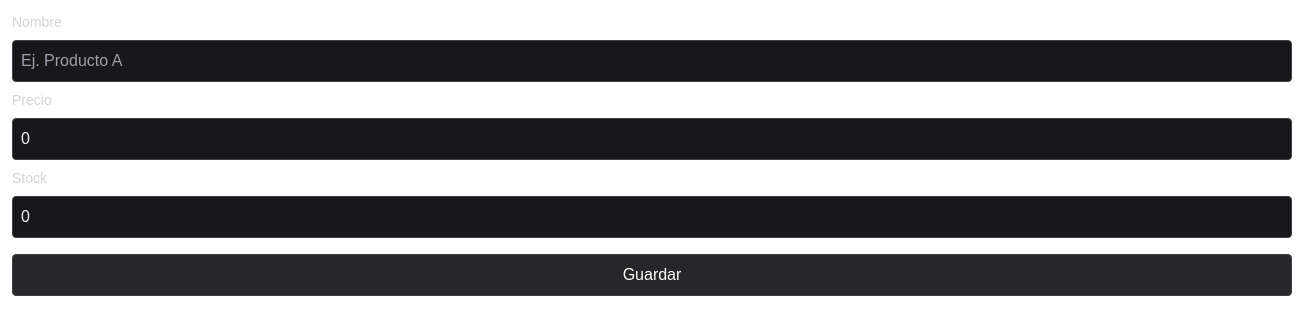
Test: ProductForm validation › resets the form after successful submit
Type "Producto Test" into the field labelled "Nombre". click: [652, 61]
box: 12,40 -> 1292,82
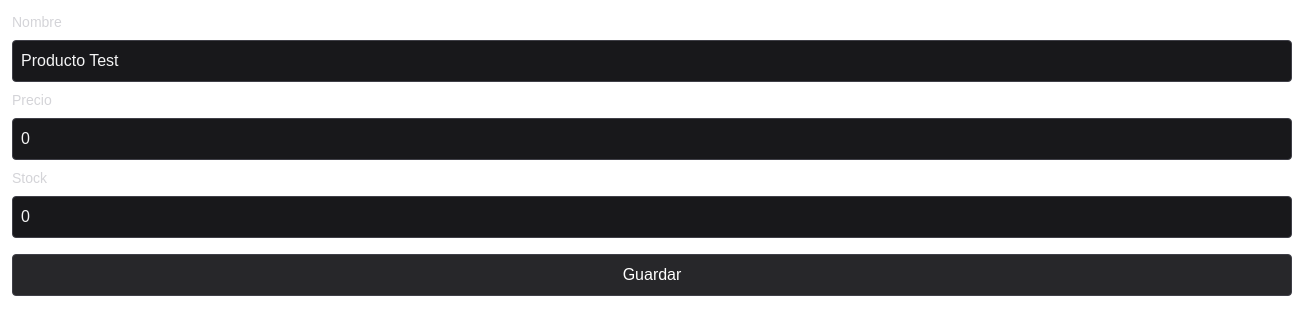
Replace the text in the number field labelled "Precio" with "10". click: [652, 139]
box: 12,118 -> 1292,160
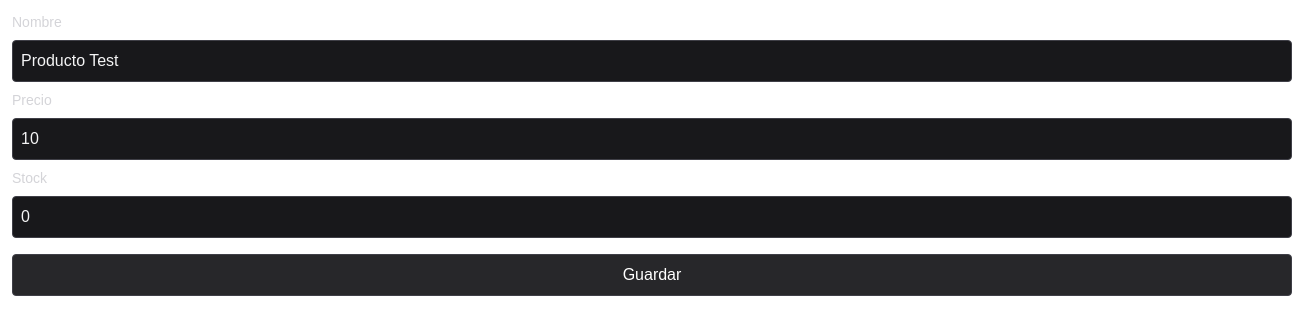
Replace the text in the number field labelled "Stock" with "3". click: [652, 217]
box: 12,196 -> 1292,238
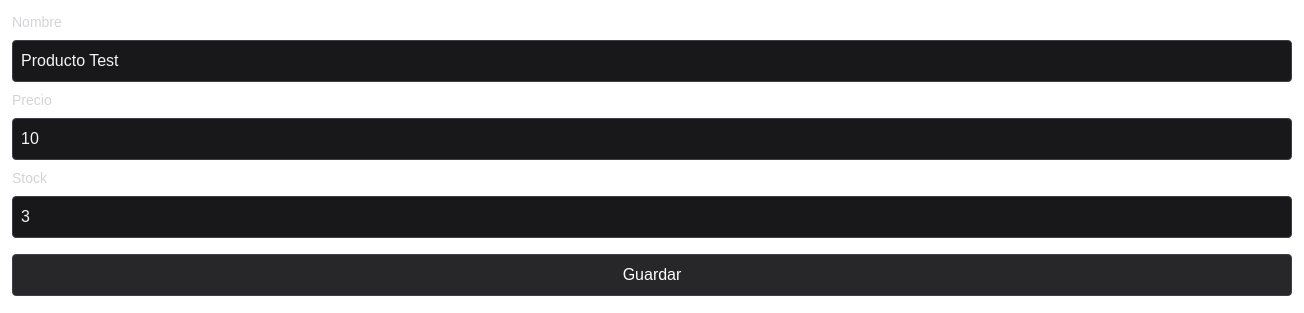
Click the button "Guardar". click: [652, 275]
box: 12,254 -> 1292,296
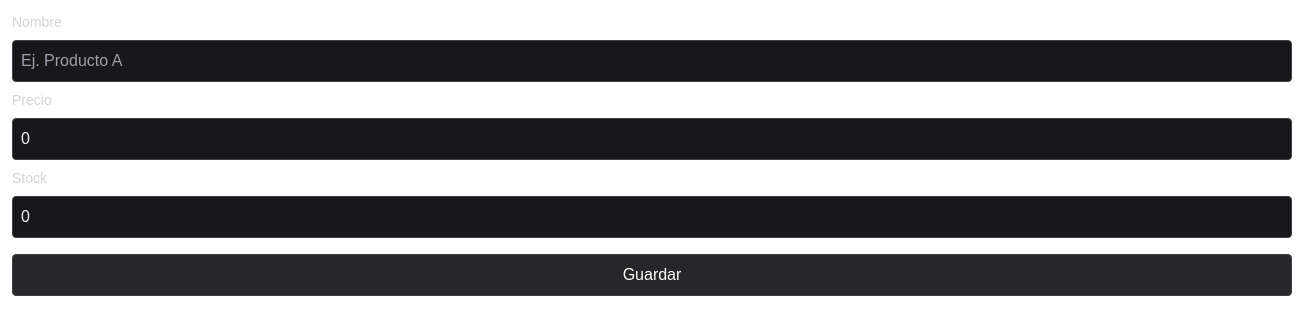
Now the field labelled "Nombre" is empty, box 12,40 -> 1292,82
Now the number field labelled "Precio" holds "0", box 12,118 -> 1292,160
Now the number field labelled "Stock" holds "0", box 12,196 -> 1292,238
